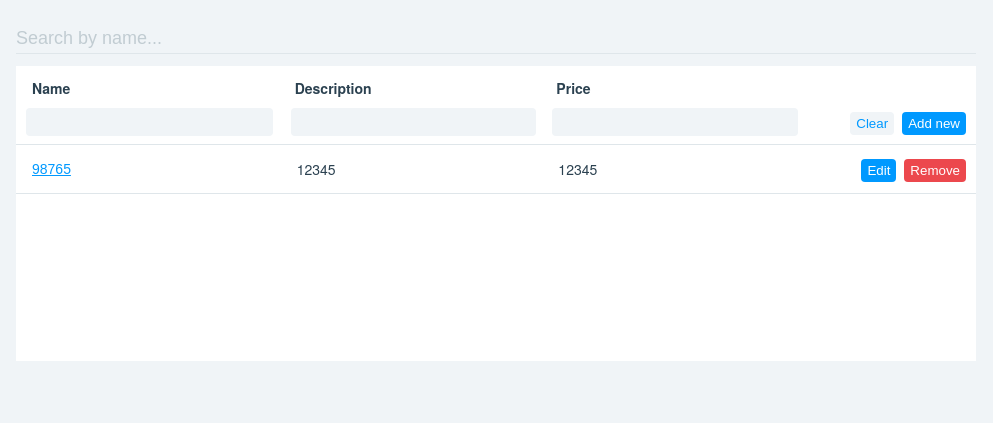
Test: Display is shown when users clicks on first element
Note: Finds & click edit button
Step 1. Click the button "98765" → (149, 169), box [26, 155, 273, 183]
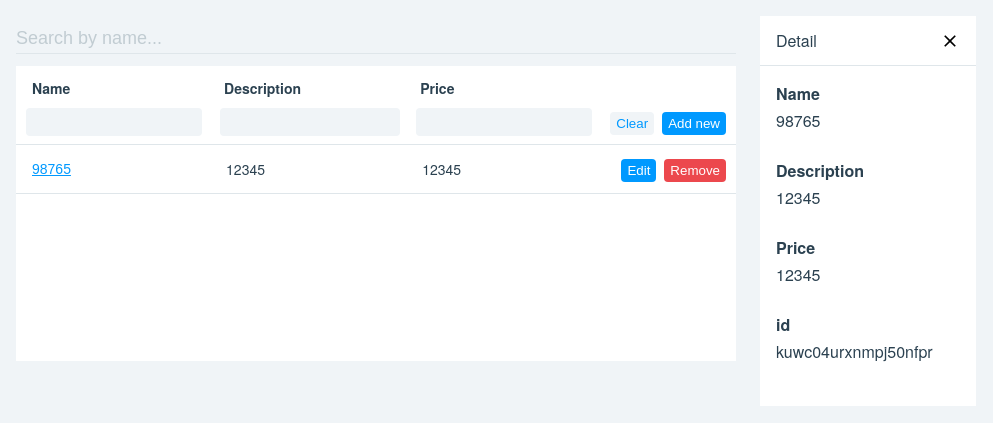
Now the element with test id "Items_Detail" shows "Detail", box [776, 29, 817, 52]
Now the element with test id "Items_Detail" shows "id", box [776, 313, 790, 336]
Now the element with test id "Items_Detail" shows "98765", box [776, 109, 820, 132]
